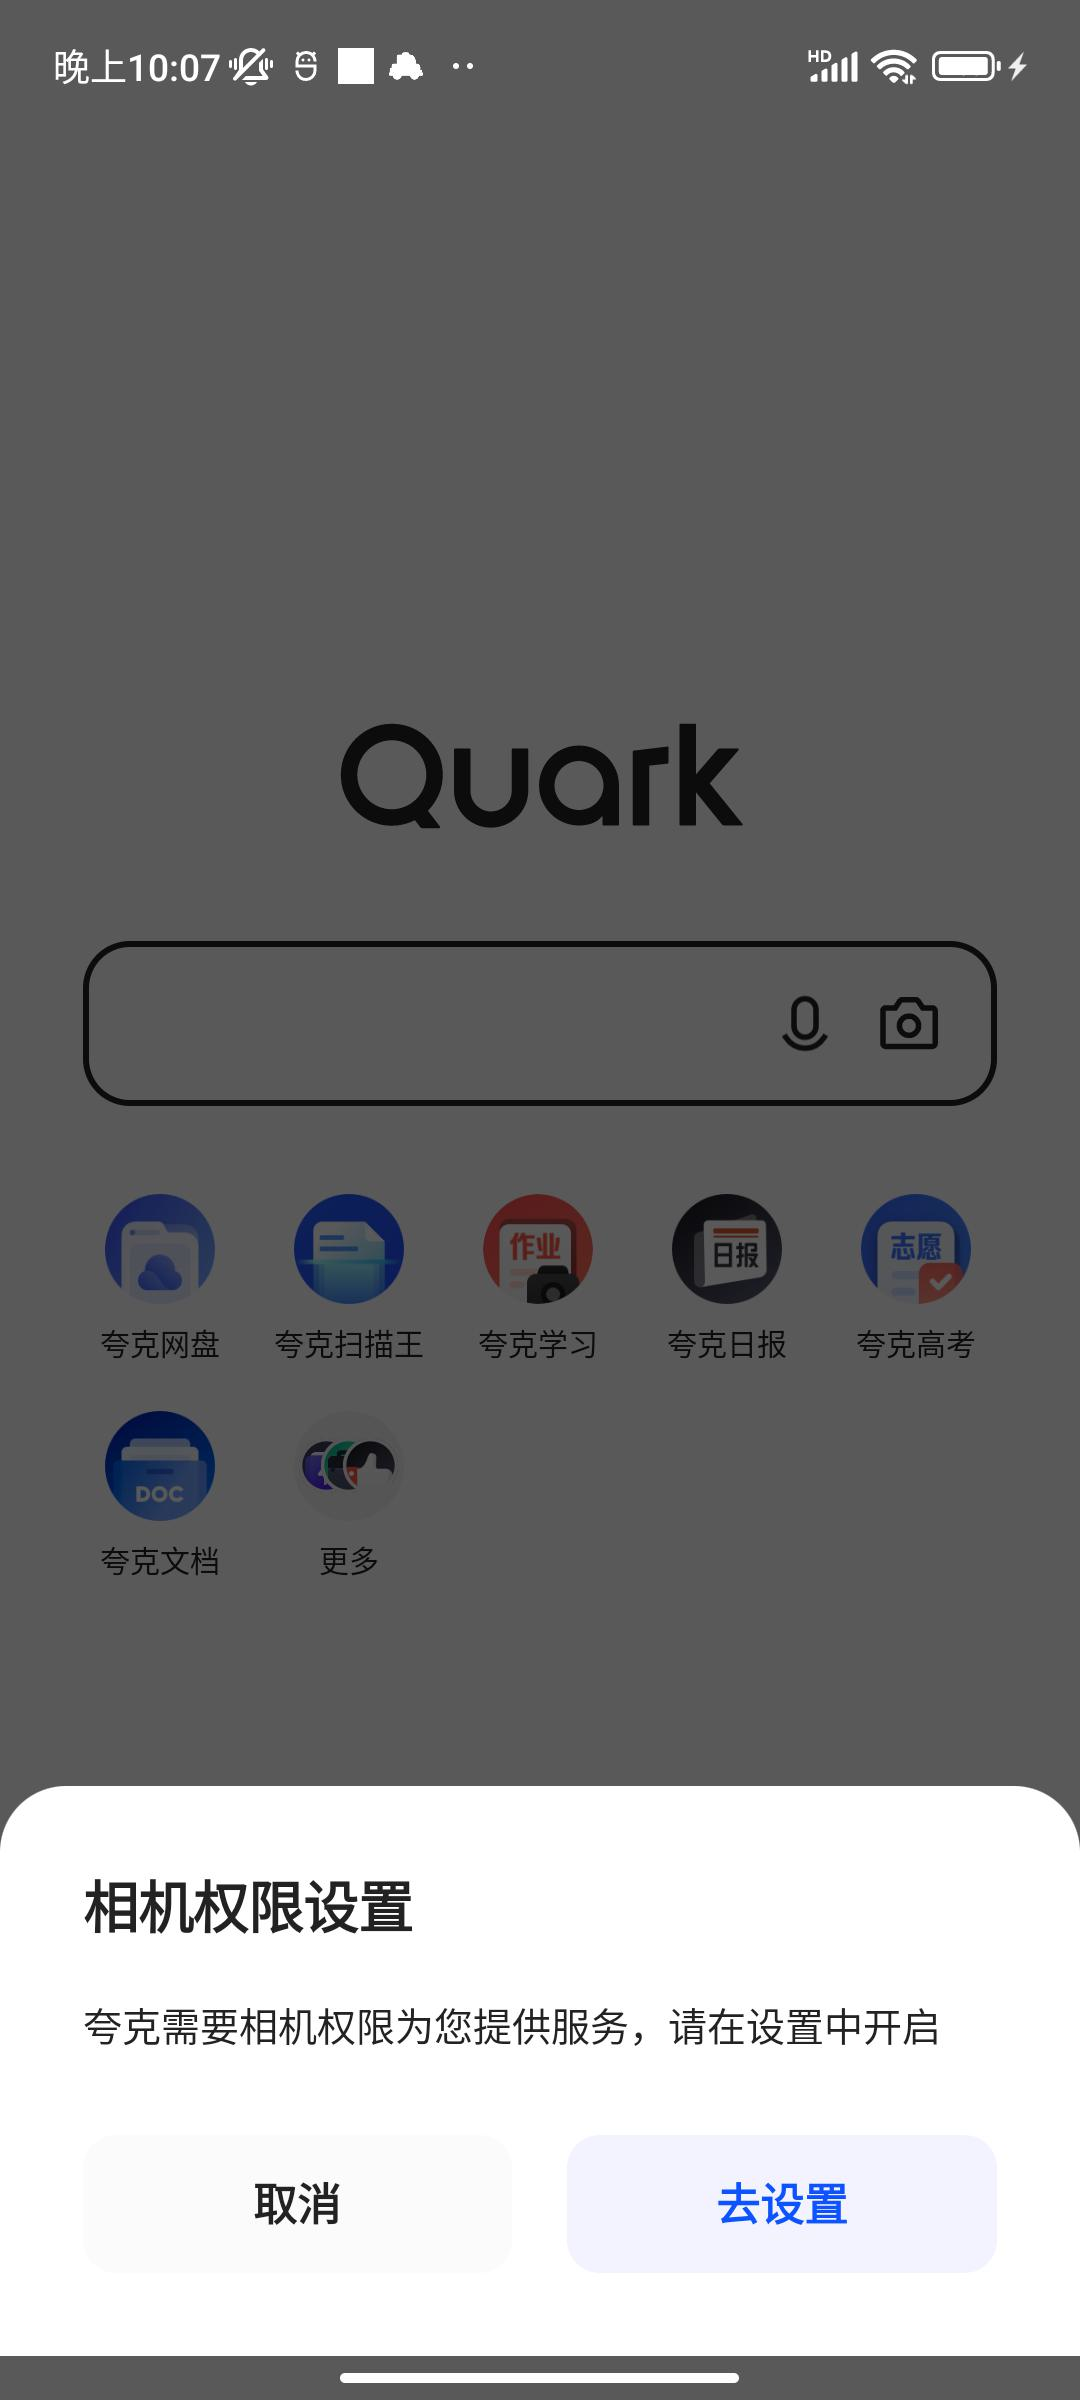ui_group: (18, 1808, 1068, 2345)
